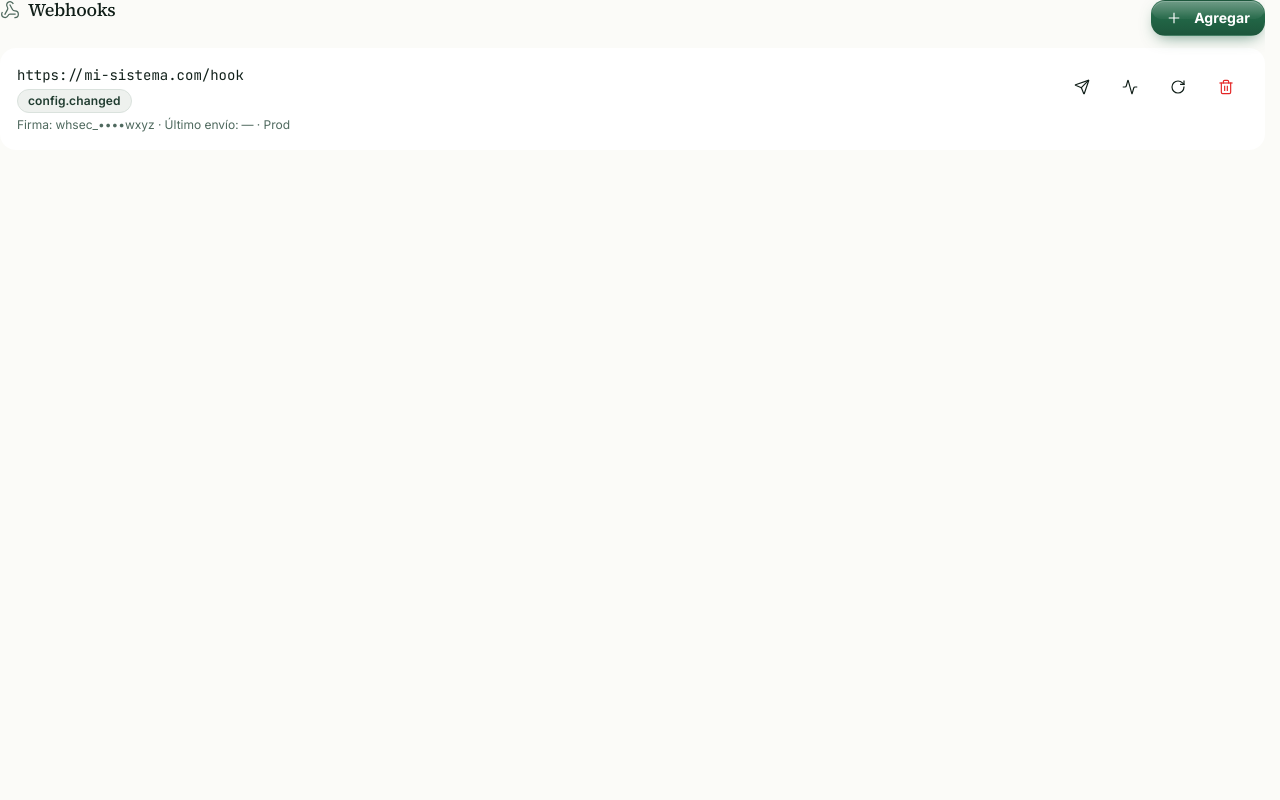
it: WebhooksSection: acciones sobre un webhook › rotar pide step-up y muestra el NUEVO secreto
The width and height of the screenshot is (1280, 800).
Click the button named "Rotar": (1178, 87) x1=1156 y1=65 x2=1200 y2=109
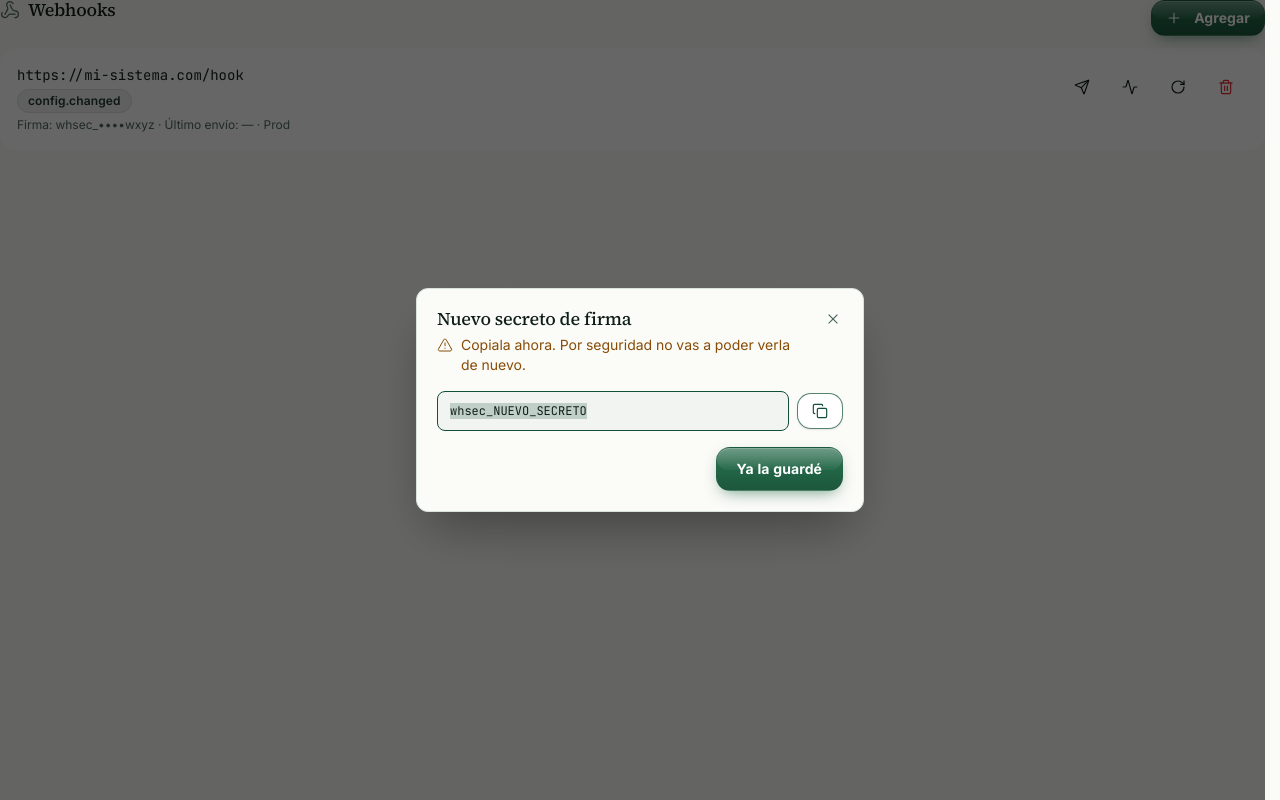
Result: the field named "Valor del secreto" holds "whsec_NUEVO_SECRETO" at x1=437 y1=391 x2=789 y2=431
